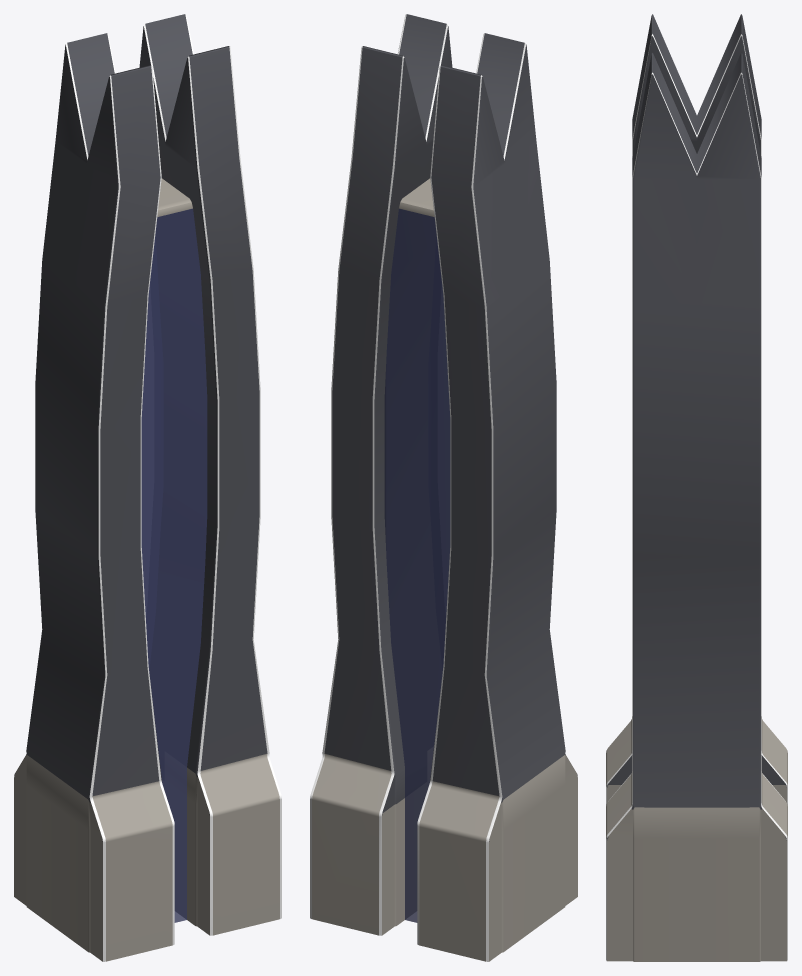
The model's file is MOD_SkyscraperC.fbx.
The picture shows the model from 3 angles, left to right: view 1: azimuth 30°, elevation 25°; view 2: azimuth 150°, elevation 25°; view 3: azimuth 270°, elevation 25°; orthographic projection.
Parts seen in each view (by area): view 1: MOD_SkyscraperC; view 2: MOD_SkyscraperC; view 3: MOD_SkyscraperC.
Boxes of the visible parts, bbox=[...] form: MOD_SkyscraperC: bbox=[14, 14, 281, 961]; MOD_SkyscraperC: bbox=[310, 14, 577, 961]; MOD_SkyscraperC: bbox=[606, 14, 787, 961].
Size of the model in its own units: 8165 by 37223 by 7019.
